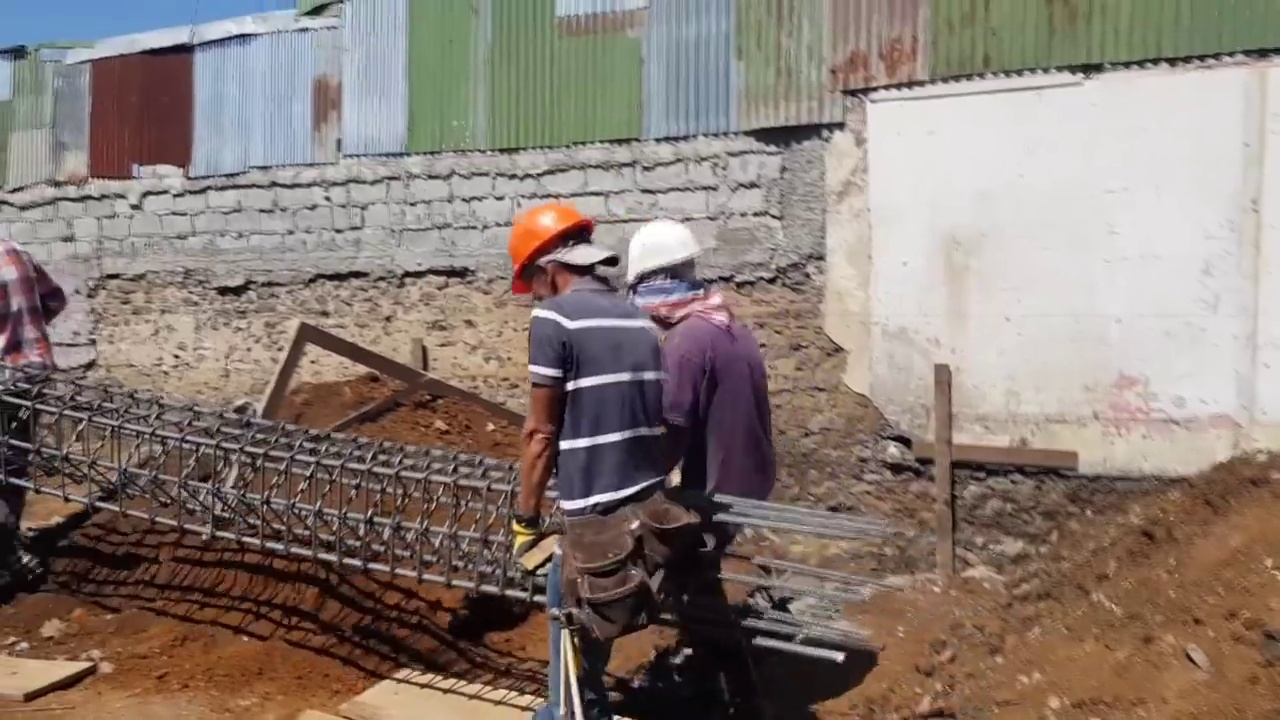helmet: (506, 204, 596, 299), (625, 222, 698, 284)
helmet-on: (504, 205, 622, 306), (627, 218, 726, 330)
person: (505, 226, 710, 703), (633, 216, 764, 648), (0, 230, 82, 543)
